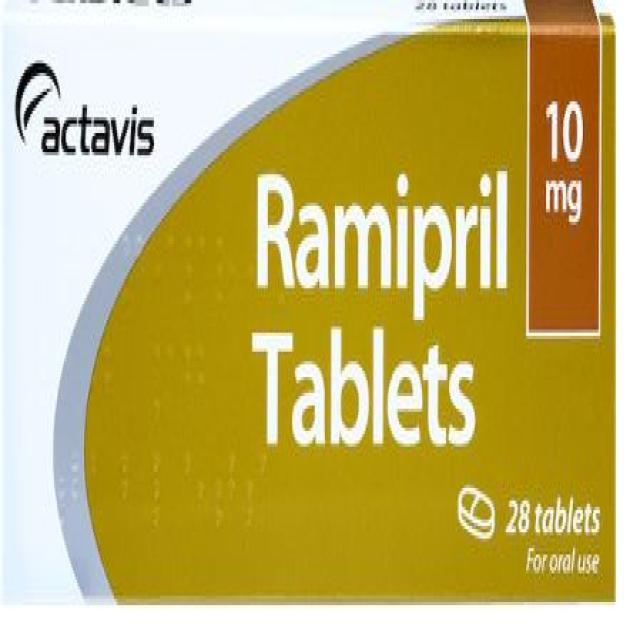drug-name: (252, 162, 516, 314)
